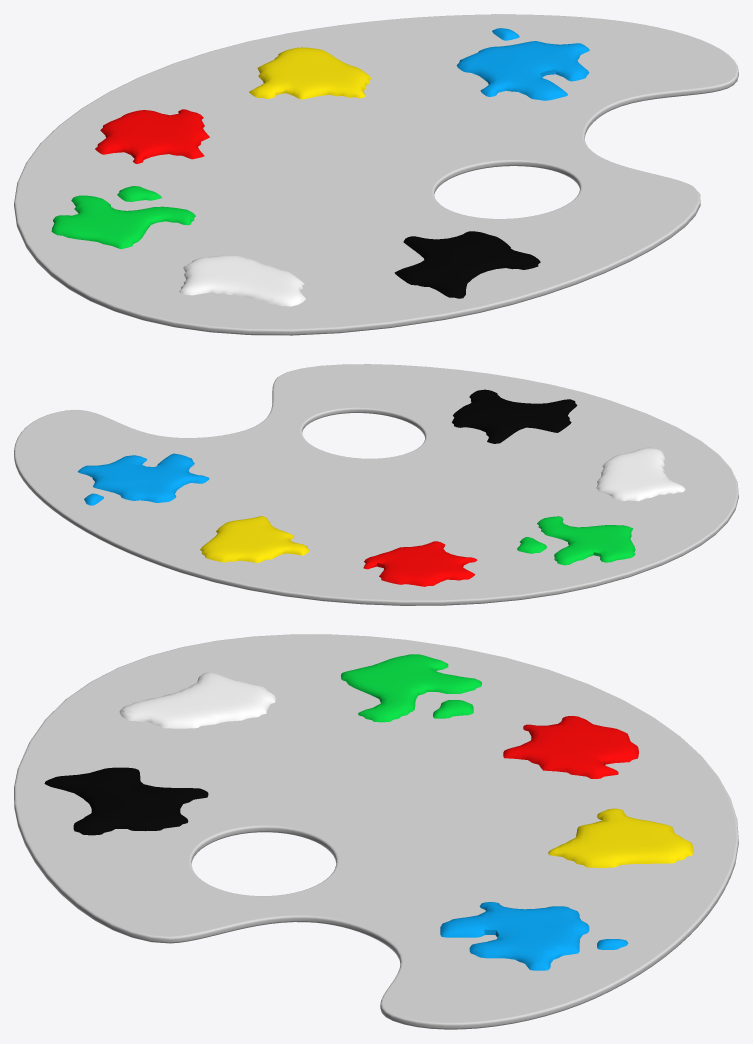
The model's file is Palette.glb.
3 views of the same model, one above another, from view 1: azimuth 30°, elevation 25°; view 2: azimuth 150°, elevation 25°; view 3: azimuth 270°, elevation 25° (orthographic). The views are drawn at different scales.
Parts seen in each view (by area): view 1: palette; view 2: palette; view 3: palette.
Boxes of the visible parts, x1,y1,x2,y2 form: palette: (14,14,738,335); palette: (14,364,738,605); palette: (14,634,738,1029).
Size of the model in its own units: 110 by 1.78 by 86.24.
